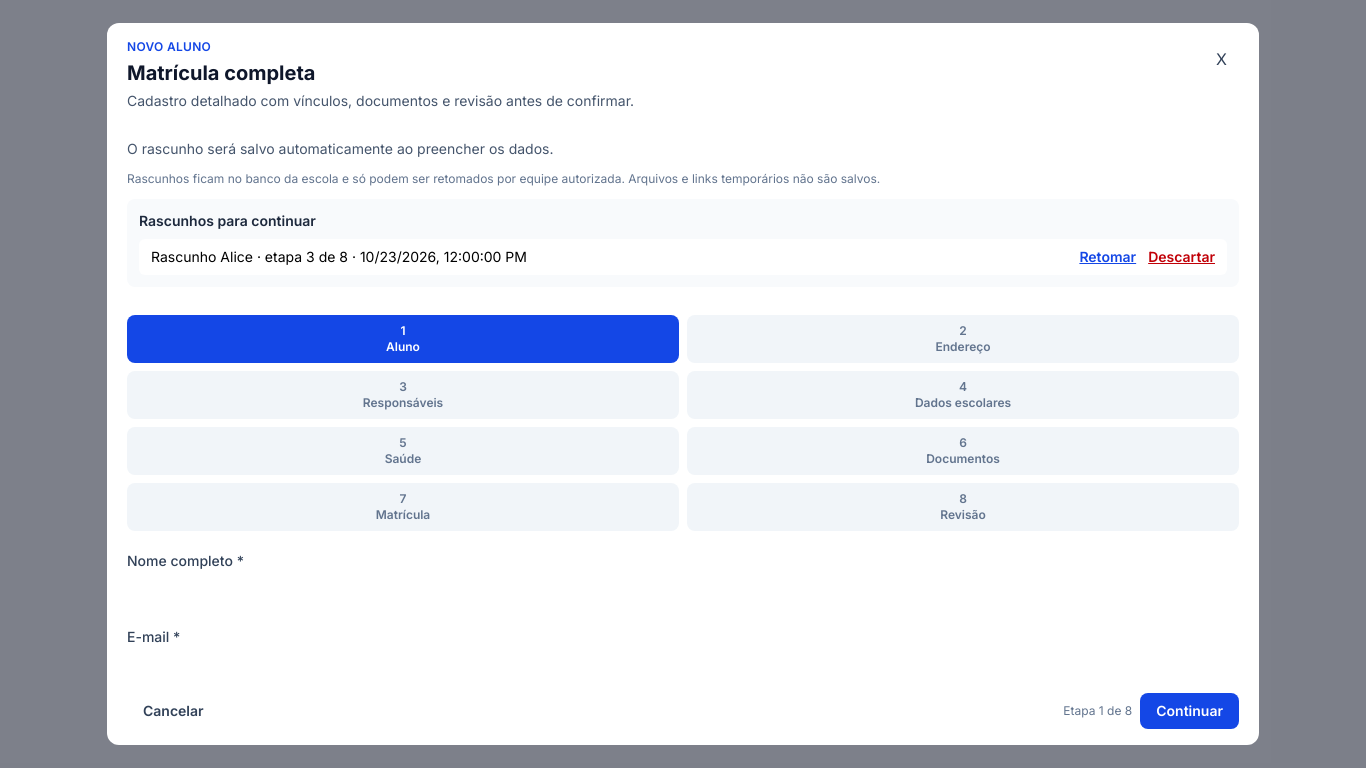
Test: FullStudentEnrollmentWizard › retoma rascunho autorizado na etapa salva e revalida duplicidades
Click the button "Retomar".
click(1108, 257)  # box [1079,247,1136,267]
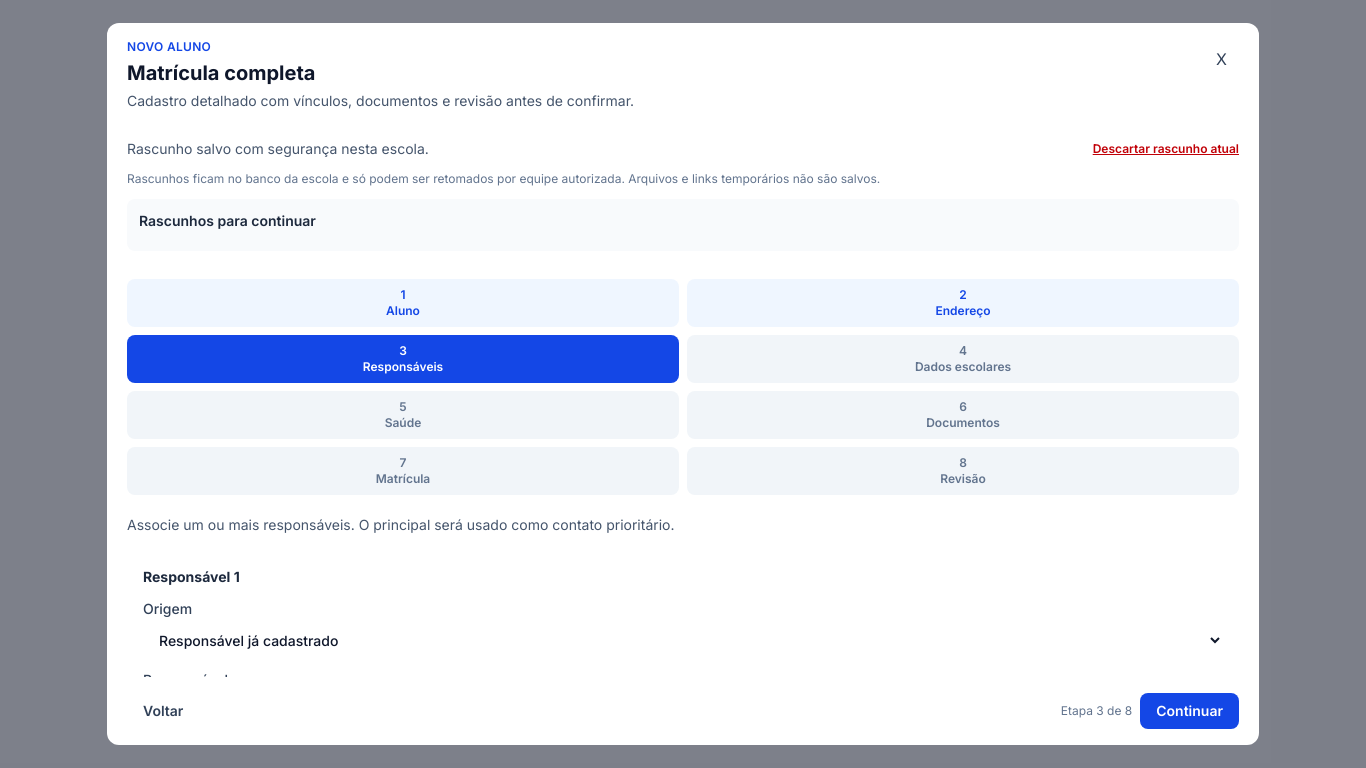
Now the text "Etapa 3 de 8" is shown, box [1061,703,1132,719]
